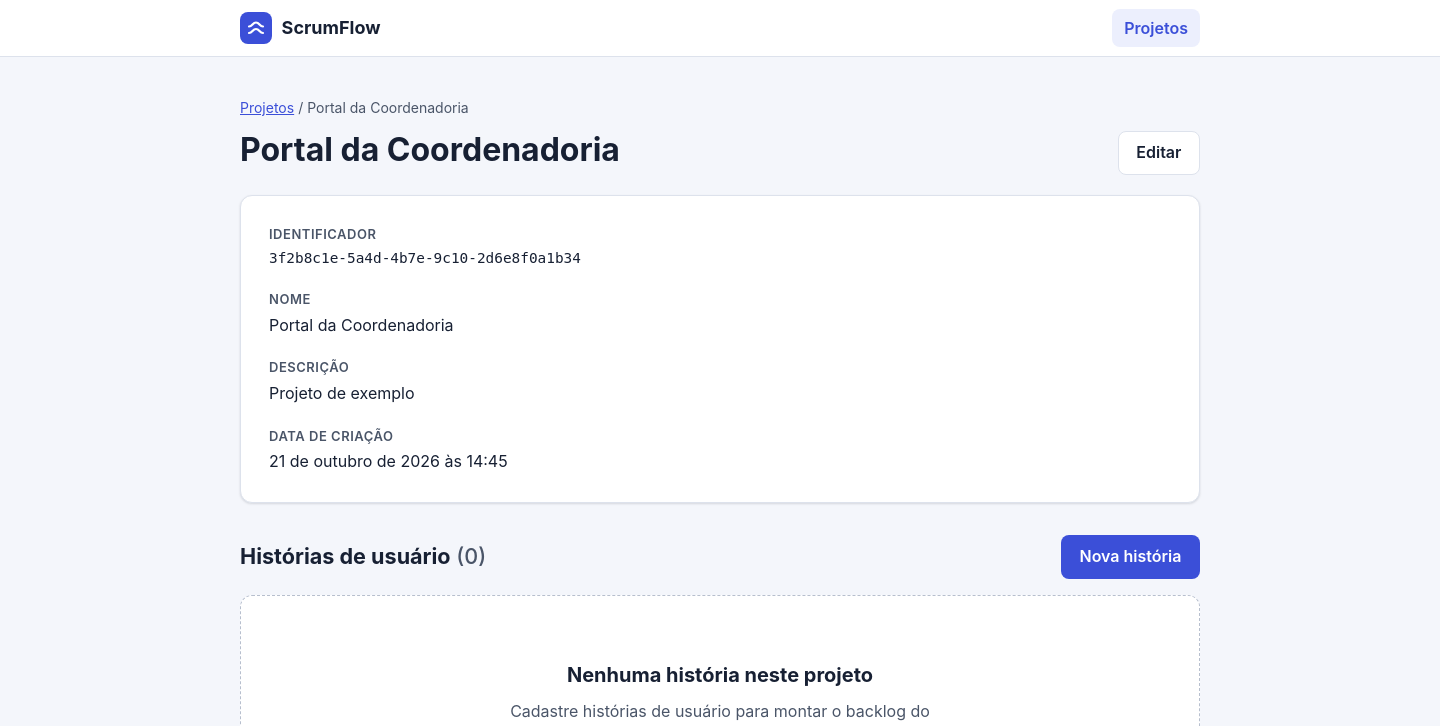
Test: Formulário: critérios de aceitação dinâmicos › adiciona critérios, move o foco para o novo e anuncia a mudança
What coordinates should you click on to do the following:
click the button "Nova história"
I would click on:
 (1130, 557)
Its box is [1061, 535, 1200, 579].
(page scrolled)
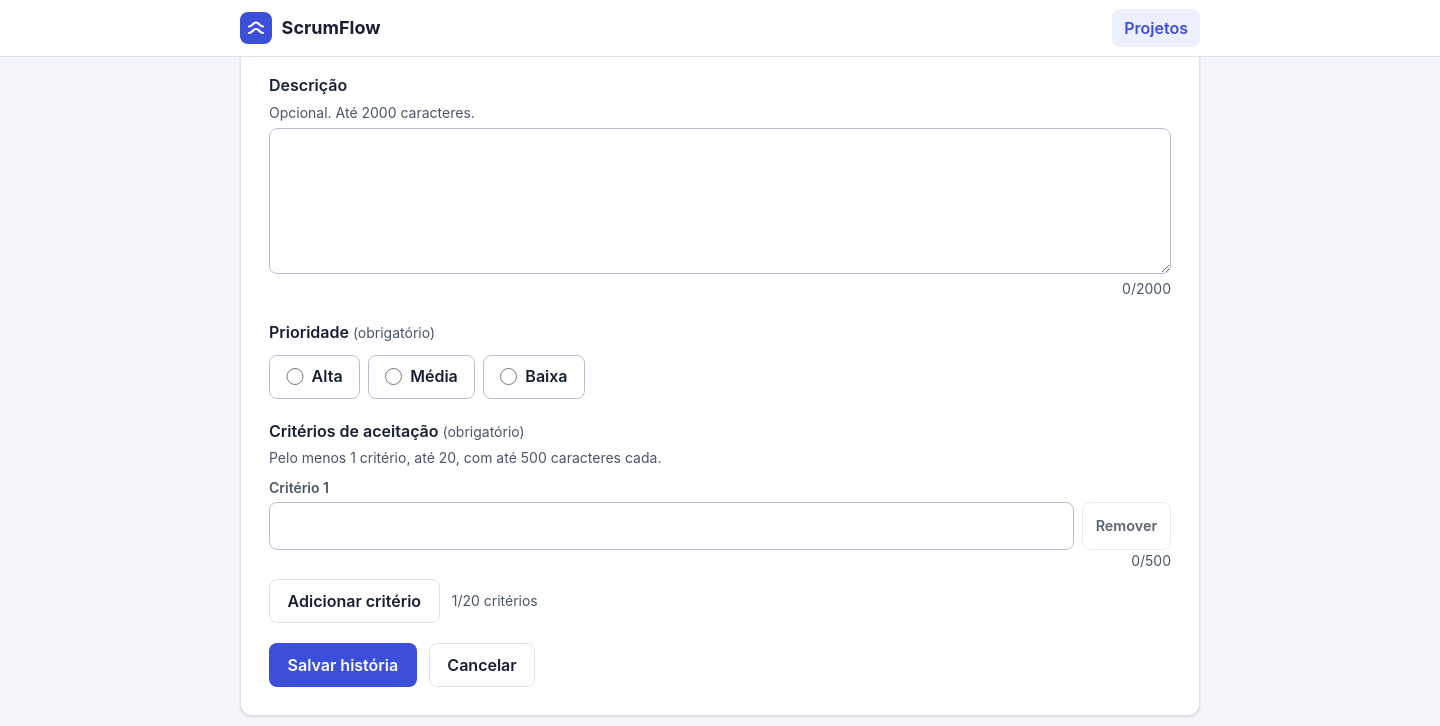
What coordinates should you click on to do the following:
click the button "Adicionar critério"
I would click on:
 (354, 601)
Its box is [269, 579, 440, 623].
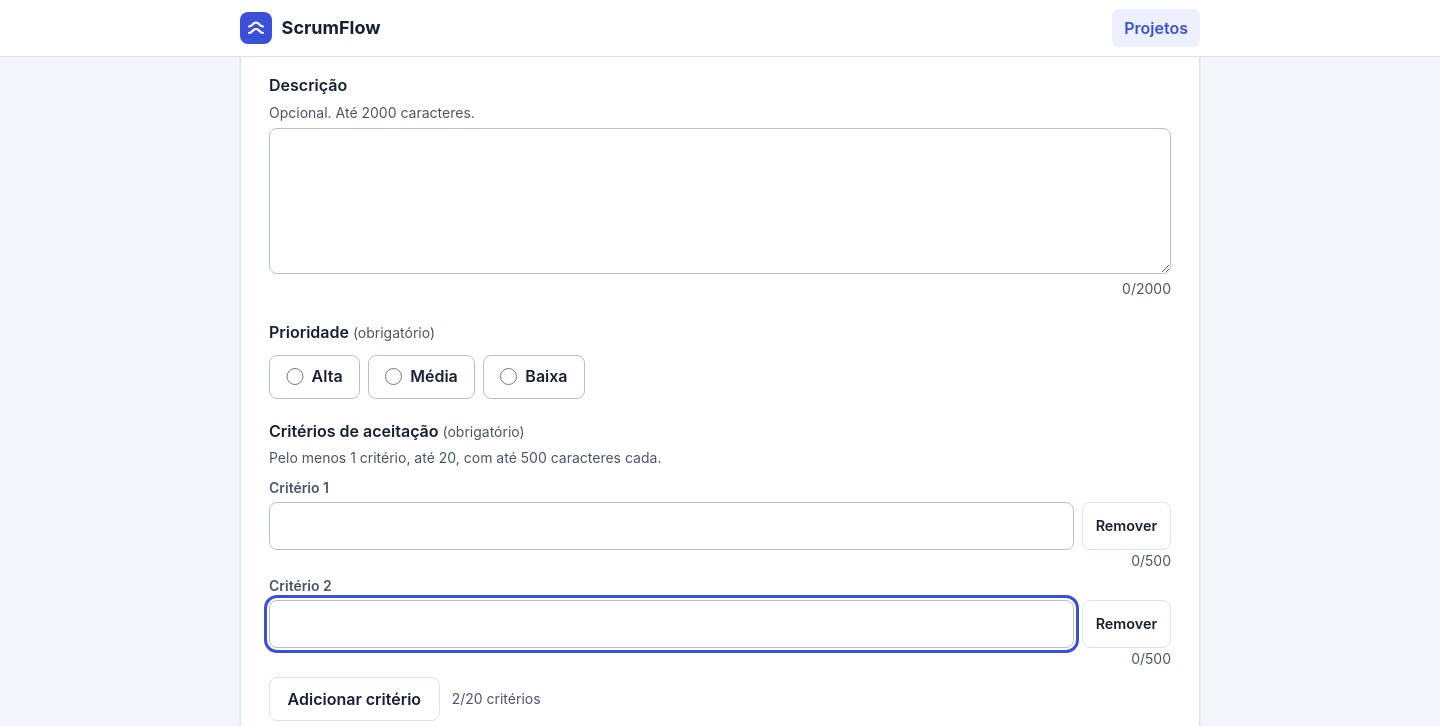
Expected: the number of fields labelled "Critério 1" is 2, [269, 502, 1074, 550]; [269, 600, 1074, 648]
Expected: the button named "Remover critério 1" is enabled, [1082, 502, 1171, 550]
